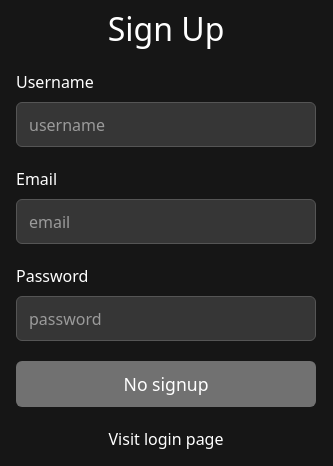
Test: SignUpPage › enables button and updates text when all fields are filled
Type "testuser" into the field labelled "Username" at coordinates (166, 124), box [16, 102, 316, 147]
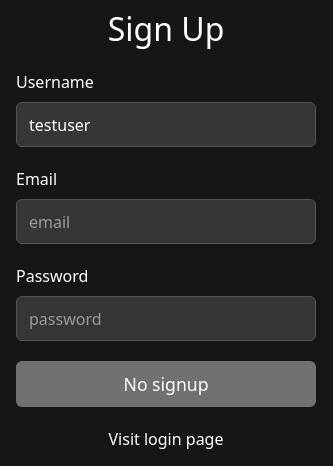
Type "test@test.com" into the field labelled "Email" at coordinates (166, 222), box [16, 199, 316, 244]
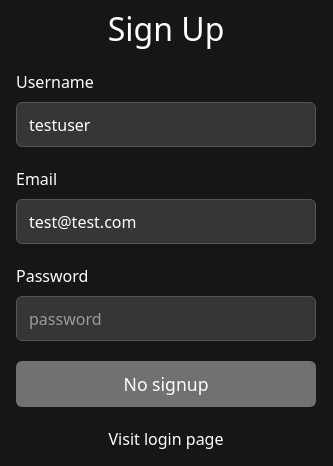
Type "Password1!" into the password field labelled "Password" at coordinates (166, 319), box [16, 296, 316, 342]
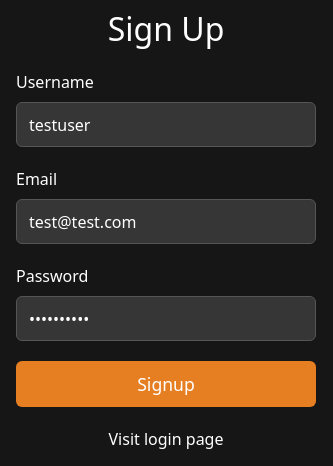
Expected: the button is enabled, [16, 362, 316, 407]
Expected: the button reads "Signup", [16, 362, 316, 407]
